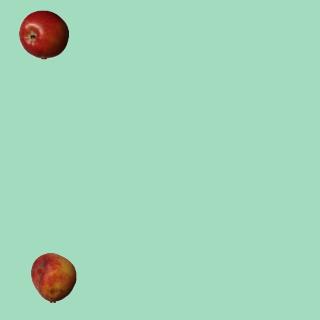Apple Braeburn: (18, 9, 68, 59)
Peach: (28, 252, 78, 302)
